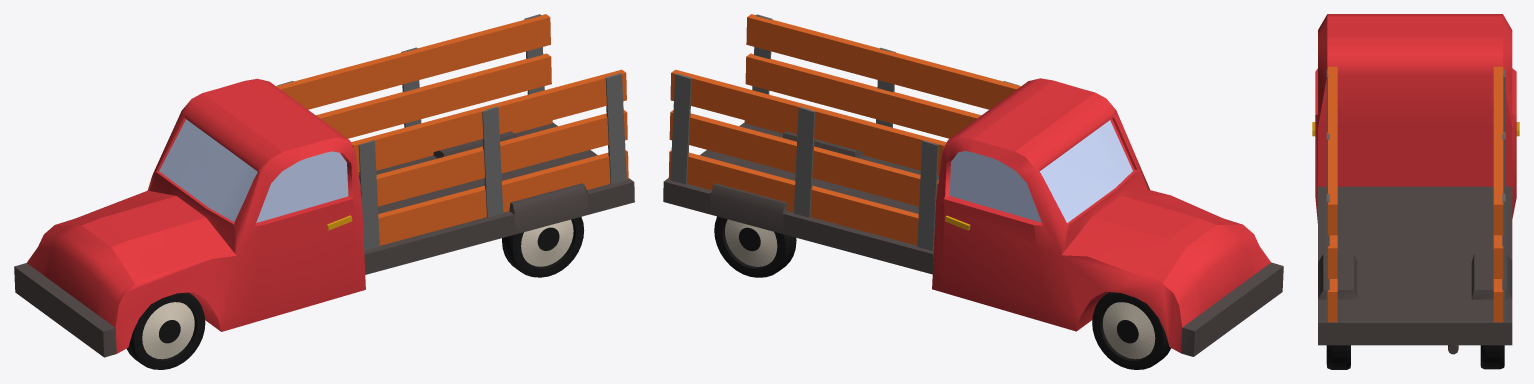
File: Truck.fbx
3 renders of one model, left to right at view 1: azimuth 30°, elevation 25°; view 2: azimuth 150°, elevation 25°; view 3: azimuth 270°, elevation 25°, orthographic. The views are drawn at different scales.
Visible parts, largest first — view 1: Truck, Cube.001, Cube.002, Tire01, Tire02; view 2: Truck, Cube.001, Tire01.001, Cube.002; view 3: Truck, Cube.001, Cube.002, Tire02, Tire01.001.
Part boxes in pixels (x1=…): Truck: x1=14, y1=78, x2=634, y2=357; Cube.001: x1=276, y1=14, x2=628, y2=245; Cube.002: x1=277, y1=14, x2=626, y2=250; Tire01: x1=126, y1=292, x2=205, y2=369; Tire02: x1=502, y1=216, x2=584, y2=277; Truck: x1=663, y1=78, x2=1283, y2=356; Cube.001: x1=668, y1=14, x2=1020, y2=245; Tire01.001: x1=714, y1=216, x2=1171, y2=369; Cube.002: x1=670, y1=14, x2=1019, y2=250; Truck: x1=1312, y1=14, x2=1519, y2=354; Cube.001: x1=1328, y1=66, x2=1503, y2=322; Cube.002: x1=1326, y1=69, x2=1505, y2=320; Tire02: x1=1326, y1=345, x2=1350, y2=369; Tire01.001: x1=1480, y1=345, x2=1504, y2=369.
Bounding box in the file's own units: 4452 × 1541 × 1379.
